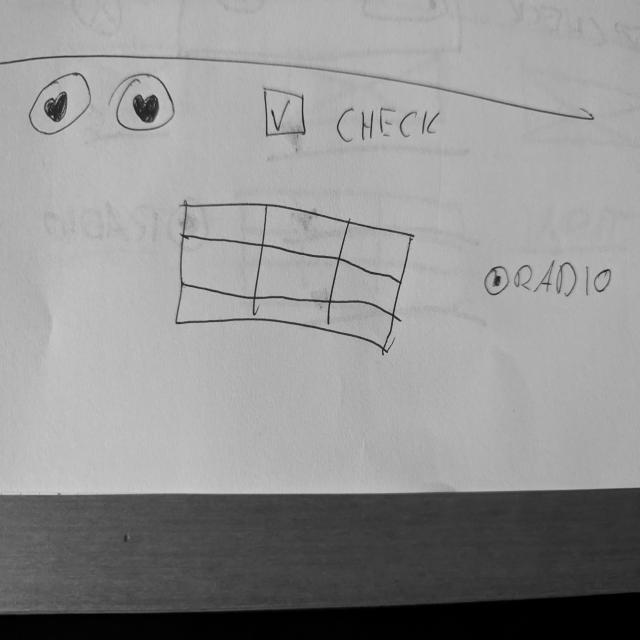checkbox: (258, 83, 445, 149)
icon-button: (25, 68, 97, 140), (115, 70, 178, 135)
radio: (484, 258, 618, 305)
table: (175, 198, 417, 358)
